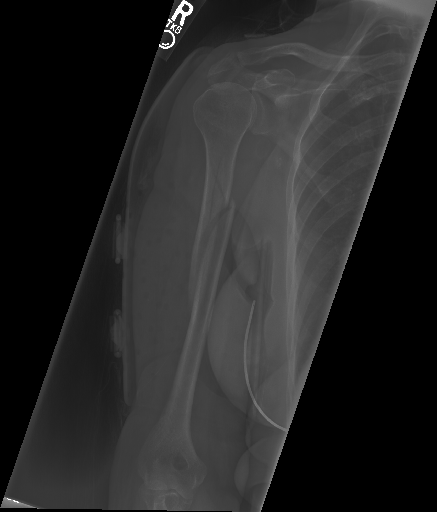fracture: (186, 164, 237, 297)
